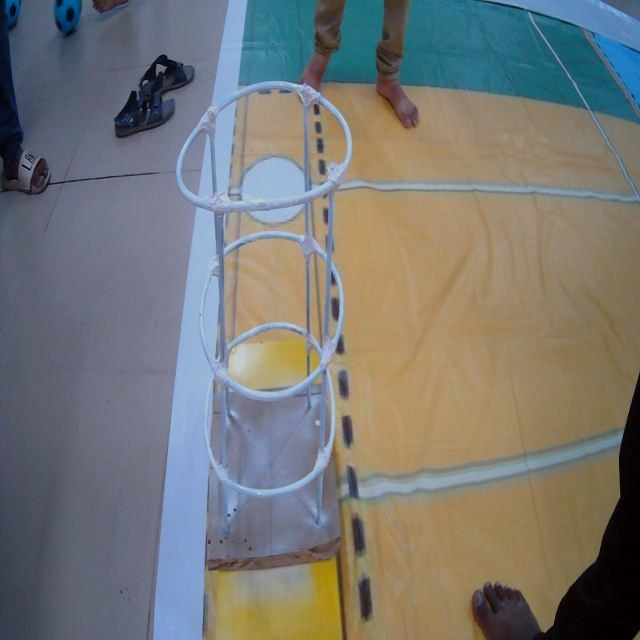silo: (162, 68, 371, 546)
